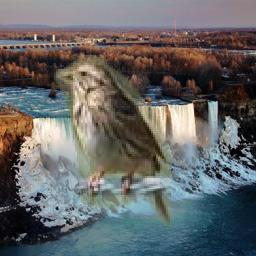Sparrow: (55, 56, 172, 227)
